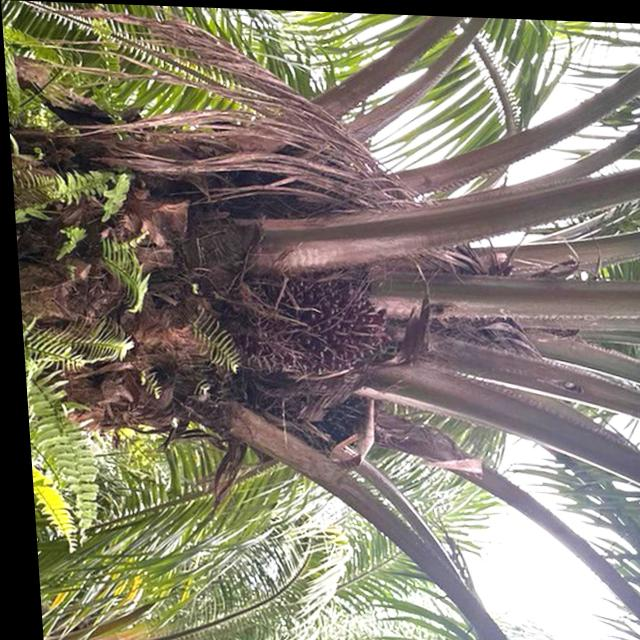ripe: (211, 253, 402, 388)
